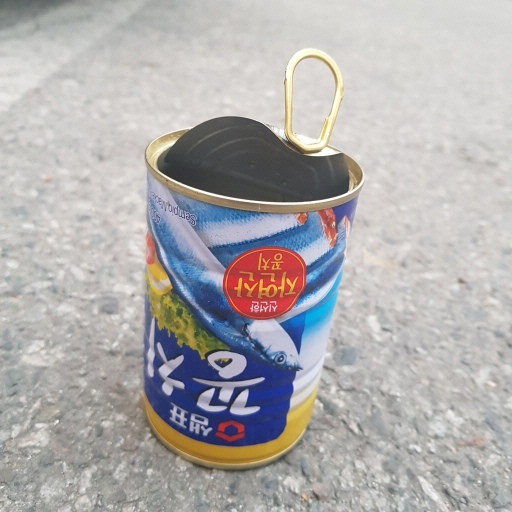Metal_1: (131, 48, 366, 471)
